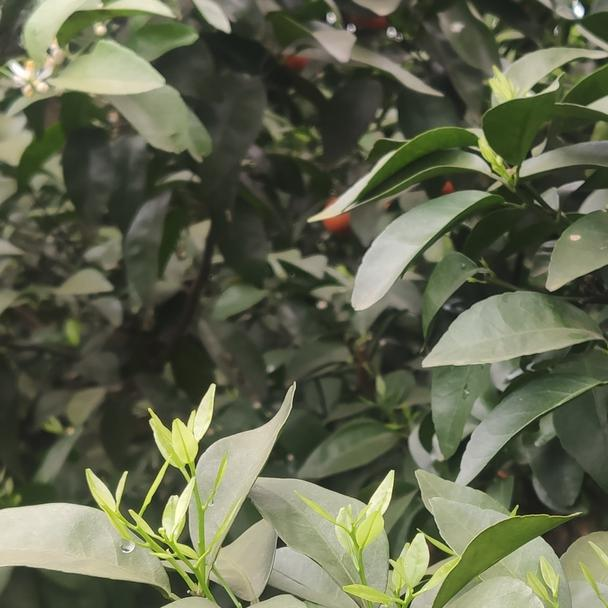shoot: (147, 400, 231, 532), (306, 478, 402, 589), (92, 467, 185, 564)
